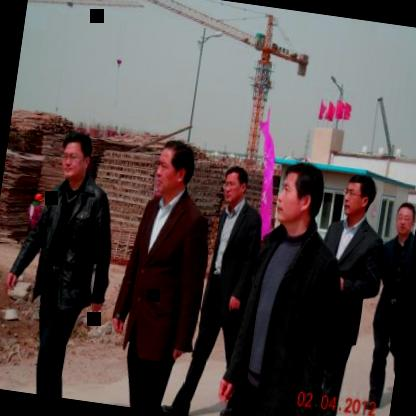head: (271, 152, 325, 236), (151, 138, 199, 201), (55, 127, 97, 188), (340, 167, 380, 222), (219, 162, 250, 207), (389, 197, 416, 242)
